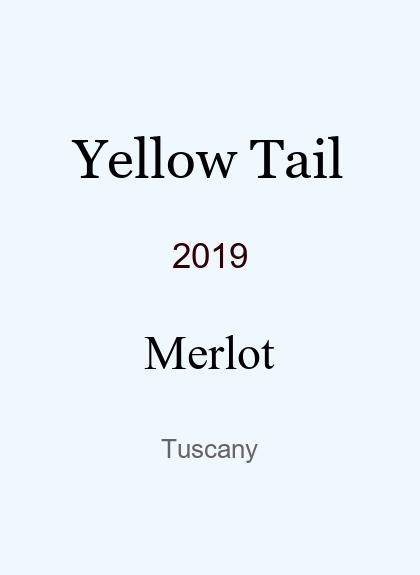brand: (73, 127, 346, 169)
region: (161, 434, 258, 458)
variety: (144, 326, 275, 360)
vintage: (172, 236, 248, 261)
